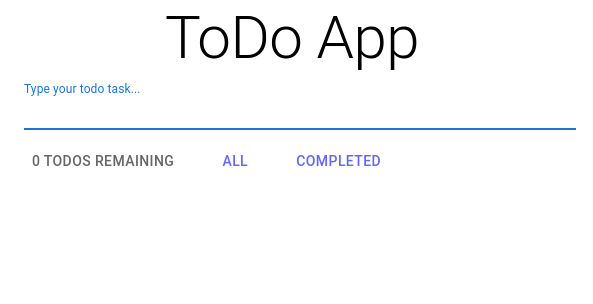
Test: my todo app › test: delete todo
Type "Buy fresh fruits" into the field labelled "Type your todo task..." at (300, 114), box [24, 98, 576, 130]
Then press Enter
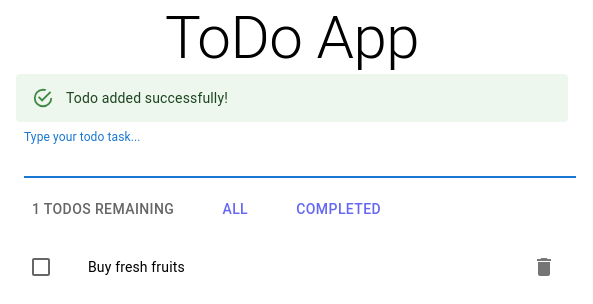
Click the button with class "todo-delete-btn" at (544, 267), box [524, 247, 564, 287]
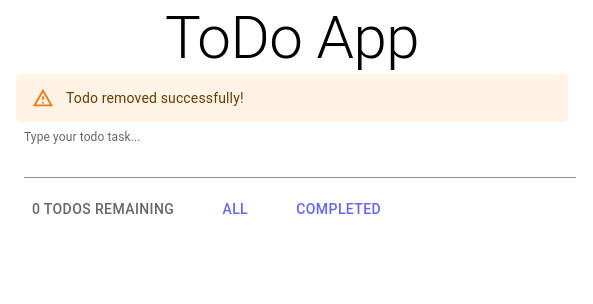
expect no list items are shown: met
